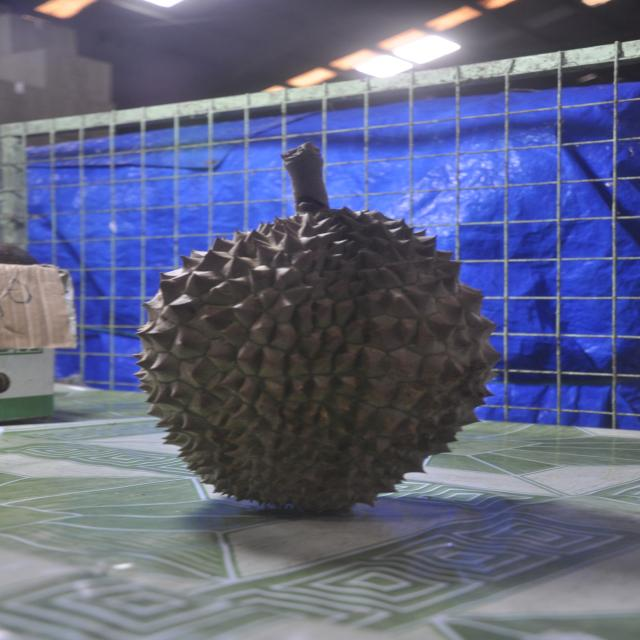mature: (136, 143, 500, 511)
